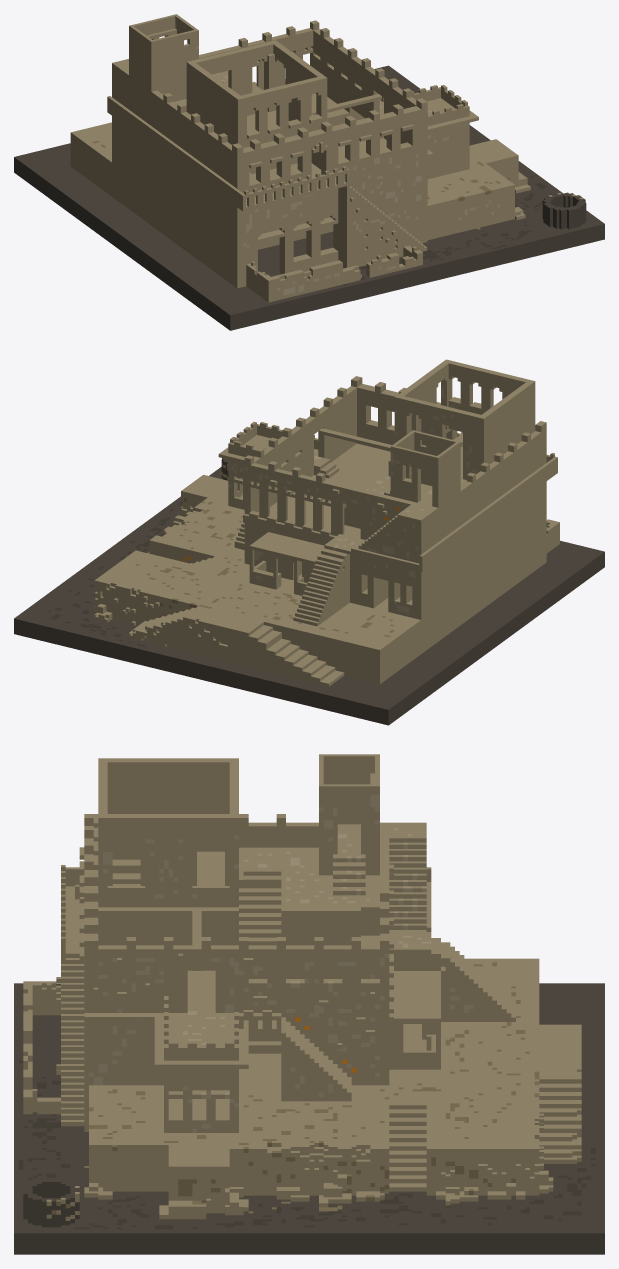
The model's file is hacienda_seps-0.obj.
3 views of the same model, one above another, from view 1: azimuth 30°, elevation 25°; view 2: azimuth 150°, elevation 25°; view 3: azimuth 270°, elevation 25° (orthographic). The views are drawn at different scales.
Visible parts, largest first — view 1: hacienda_seps-0; view 2: hacienda_seps-0; view 3: hacienda_seps-0.
Part boxes in pixels (box(x1,y1,x2,y2)): hacienda_seps-0: box(14, 14, 604, 330); hacienda_seps-0: box(14, 359, 604, 725); hacienda_seps-0: box(14, 754, 604, 1254).
Size of the model in its own units: 126 by 64 by 126.
Materials: 1 (1 with a texture image).
